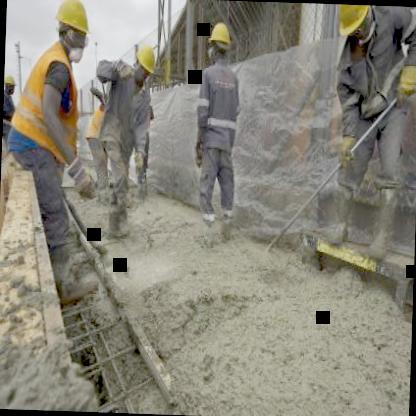helmet: (52, 0, 93, 60), (334, 4, 376, 54), (131, 36, 160, 86), (209, 20, 233, 66), (4, 72, 18, 100)
